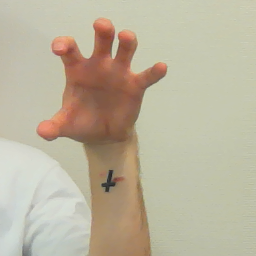AE: (34, 15, 170, 147)
